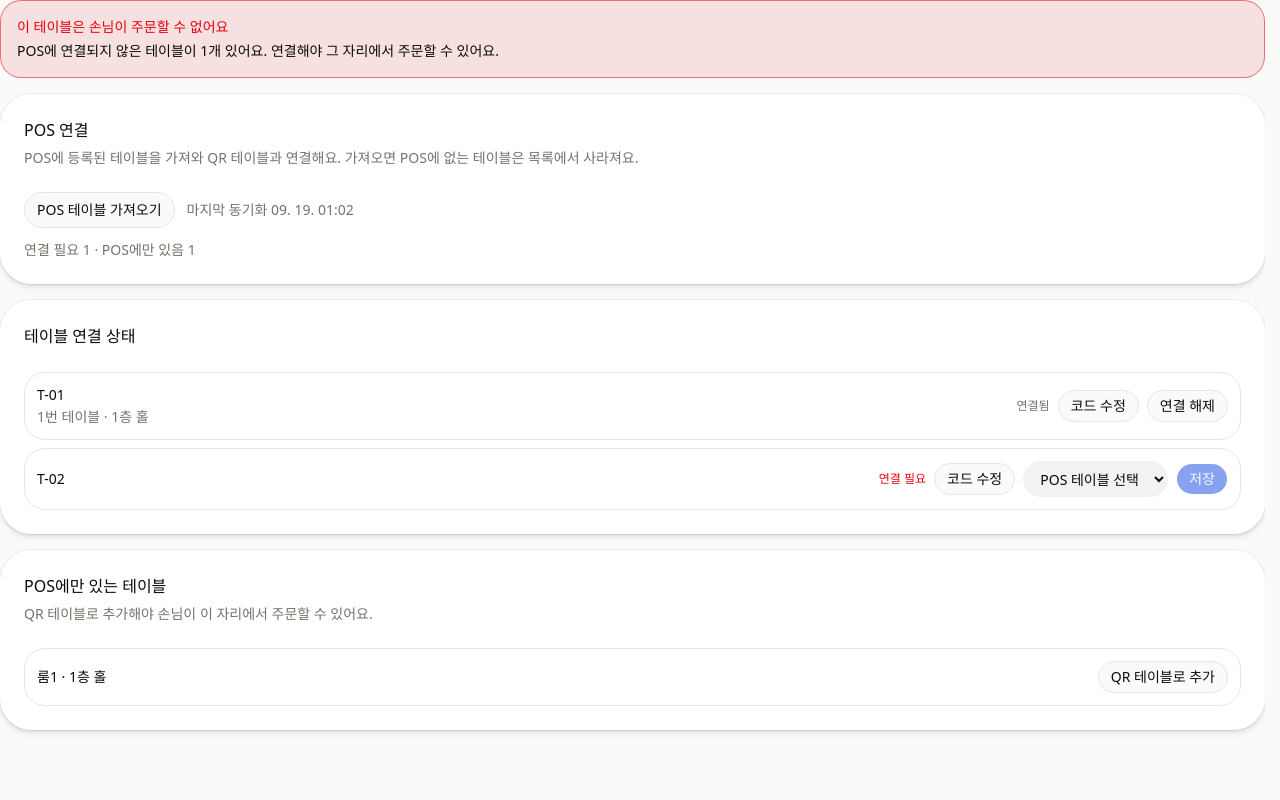
Test: PosTableLinkSection › warns that the QR is re-issued before saving a new code
The image size is (1280, 800).
Click the button "코드 수정" next to "연결됨" at (1098, 406), box x1=1058 y1=390 x2=1139 y2=422
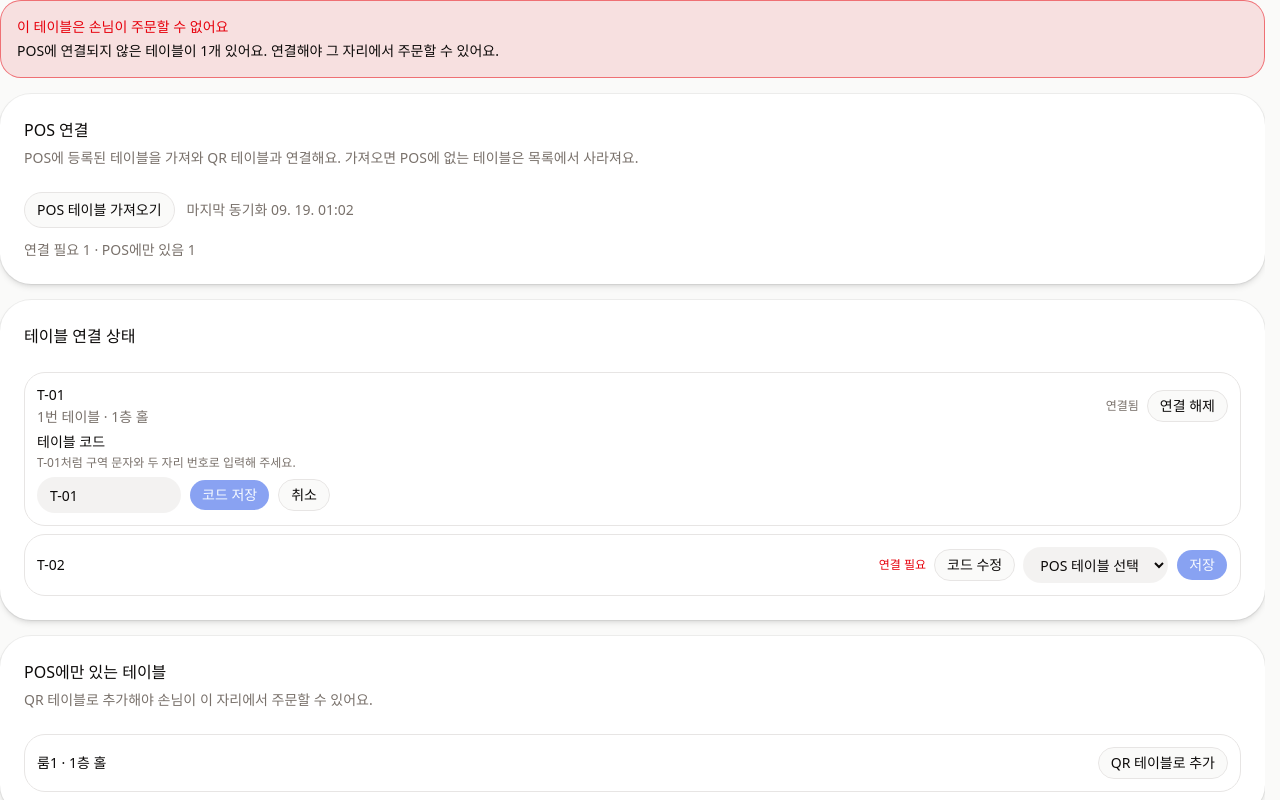
Replace the text in the field labelled "테이블 코드" with "b-06" at (109, 495), box x1=37 y1=477 x2=181 y2=513
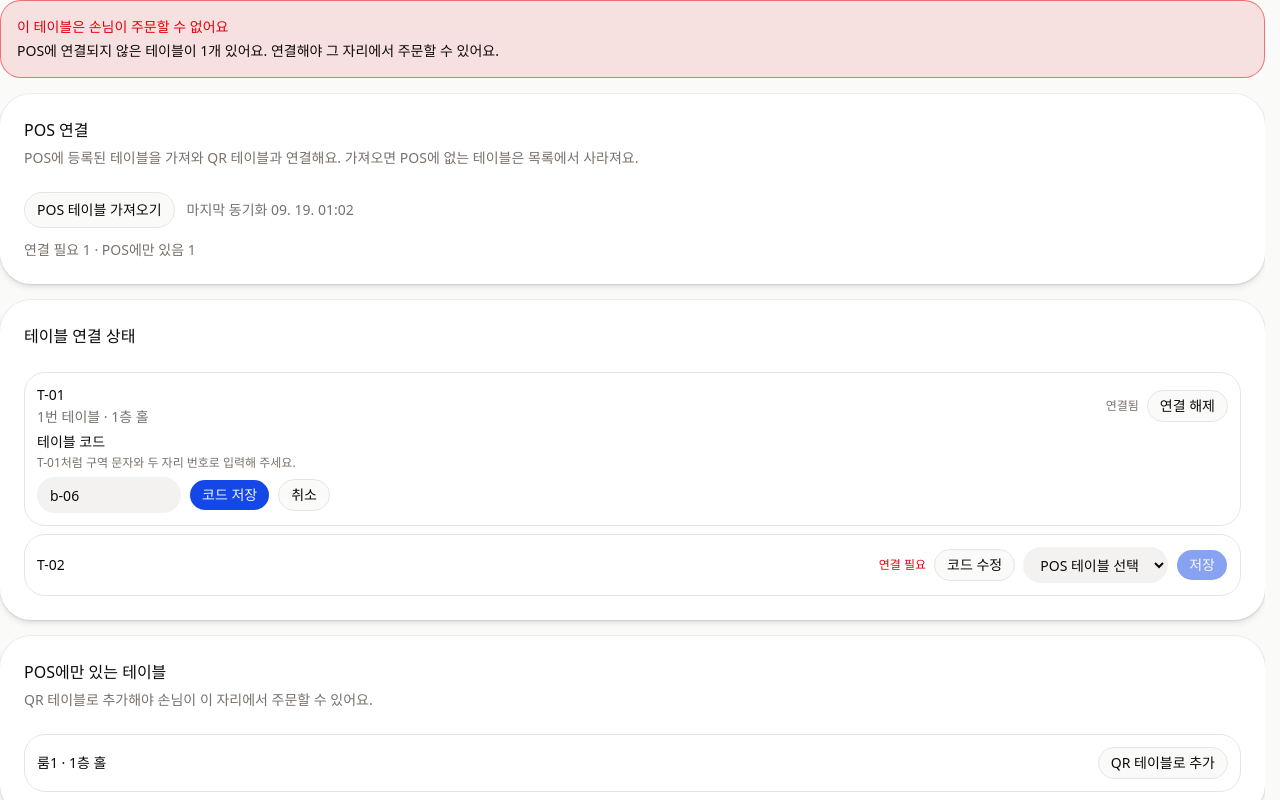
Click the button "코드 저장" at (230, 495), box x1=189 y1=479 x2=270 y2=511
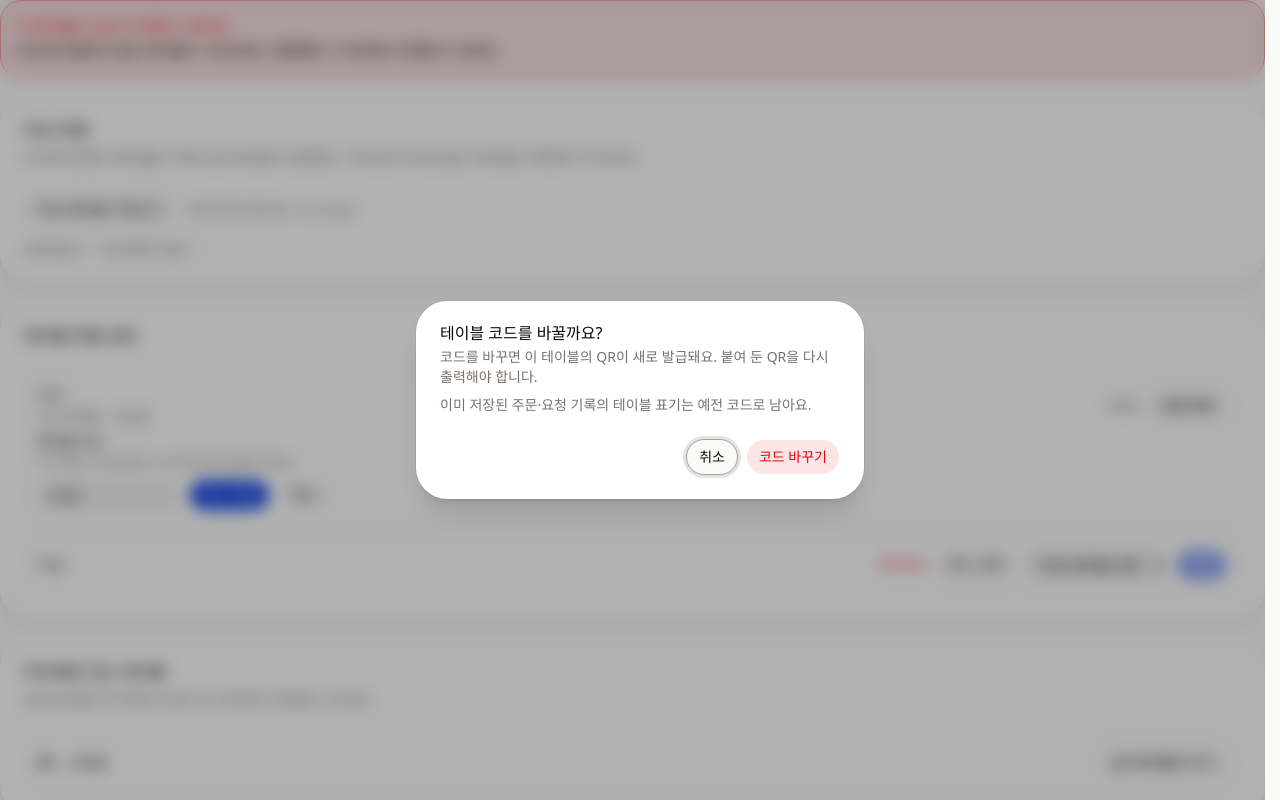
Expected: the dialog shows "코드를 바꾸면 이 테이블의 QR이 새로 발급돼요. 붙여 둔 QR을 다시 출력해야 합니다.", x1=440 y1=347 x2=829 y2=386
Expected: the dialog shows "이미 저장된 주문·요청 기록의 테이블 표기는 예전 코드로 남아요.", x1=440 y1=395 x2=812 y2=414
